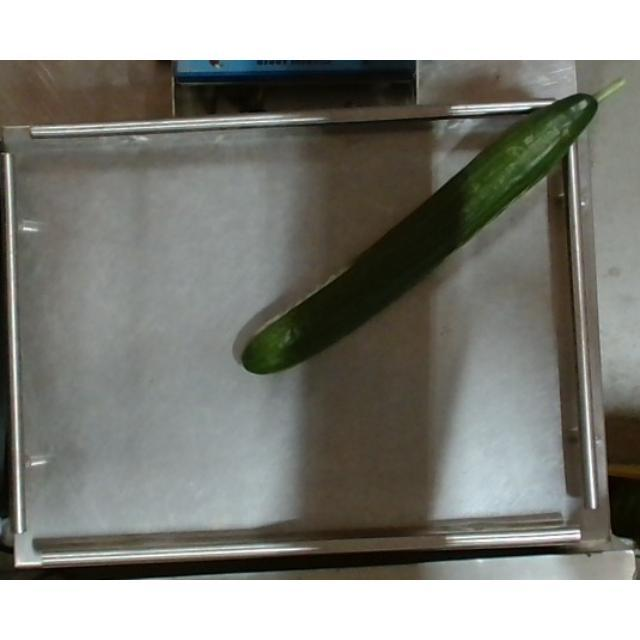cucumber: (243, 92, 597, 366)
